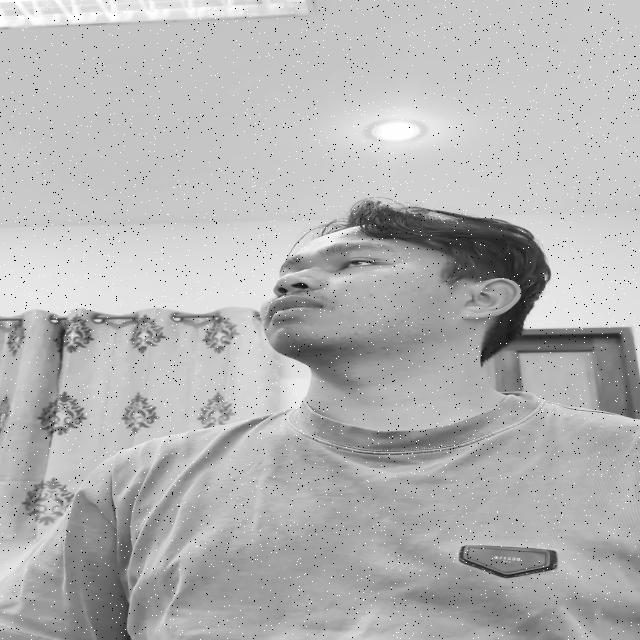ear: (462, 278, 521, 319)
